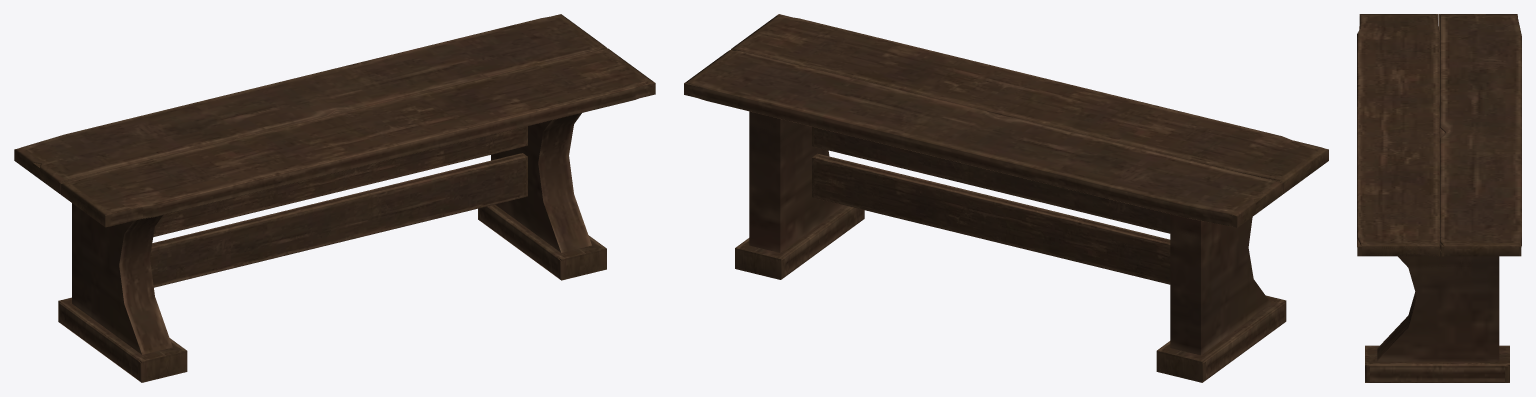
The model's file is Bench.glb.
3 views of the same model, side by side, from view 1: azimuth 30°, elevation 25°; view 2: azimuth 150°, elevation 25°; view 3: azimuth 270°, elevation 25° (orthographic). The views are drawn at different scales.
Visible parts, largest first — view 1: Bench; view 2: Bench; view 3: Bench.
Part boxes in pixels (x1,y1,x2,y2): Bench: (14,14,655,382); Bench: (684,14,1328,382); Bench: (1357,14,1521,382).
Size of the model in its own units: 1.57 by 0.4919 by 0.4706.
Materials: 1 (1 with a texture image).
